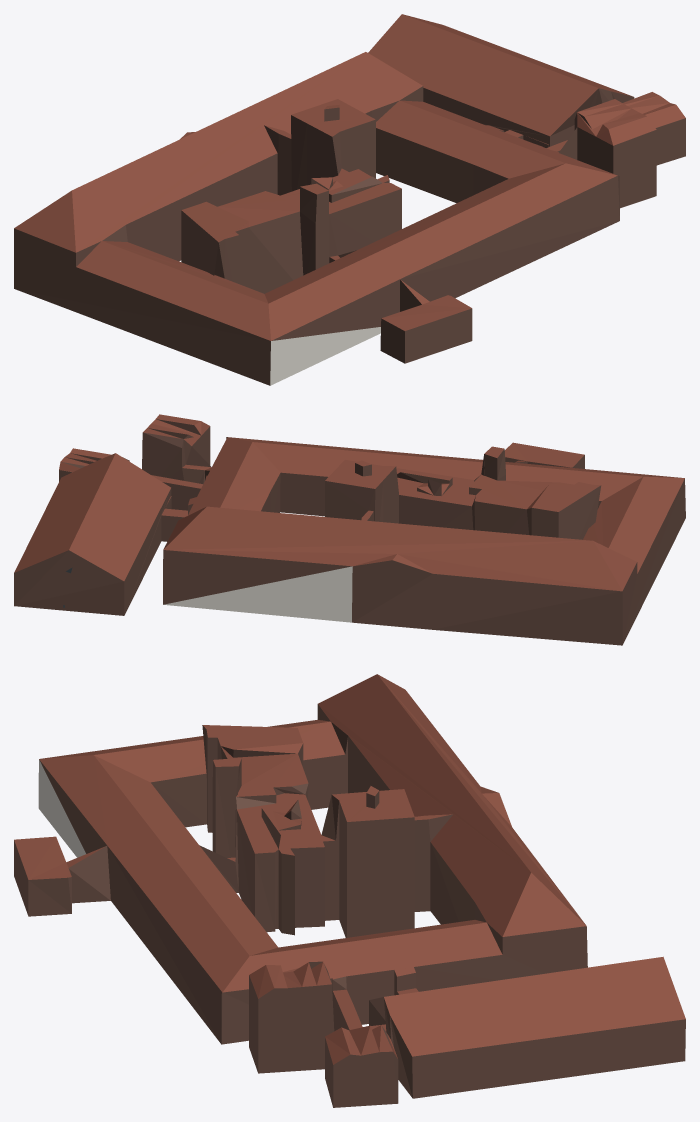
Rendered from rijksakademie.lod2.glb.
3 renders of one model, top to bottom at view 1: azimuth 30°, elevation 25°; view 2: azimuth 150°, elevation 25°; view 3: azimuth 270°, elevation 25°, orthographic. The views are drawn at different scales.
Visible parts, largest first — view 1: lod2; view 2: lod2; view 3: lod2.
Part boxes in pixels (x1,y1,x2,y2): lod2: [14, 14, 685, 385]; lod2: [14, 414, 685, 645]; lod2: [14, 674, 685, 1107].
Bounding box in the file's own units: 121 × 21.44 × 97.94.
